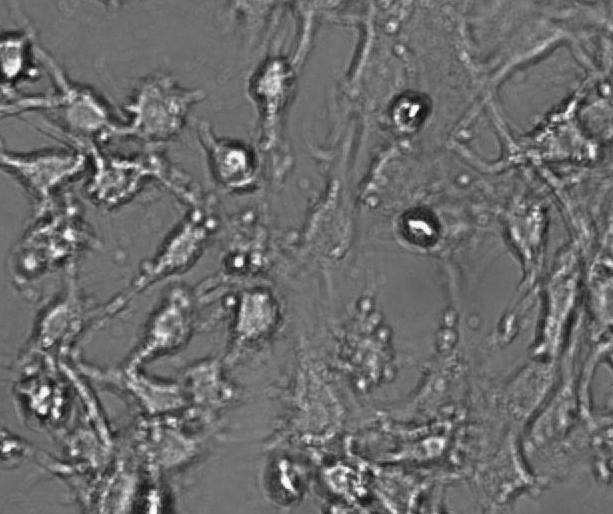Dead: (245, 56, 300, 146), (200, 125, 260, 197), (18, 365, 79, 431), (256, 448, 314, 506), (392, 197, 447, 254), (385, 84, 438, 140), (1, 24, 39, 86)
